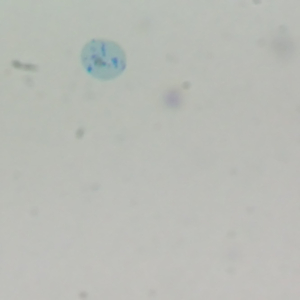aggregate reticulocyte: (78, 37, 128, 82)
